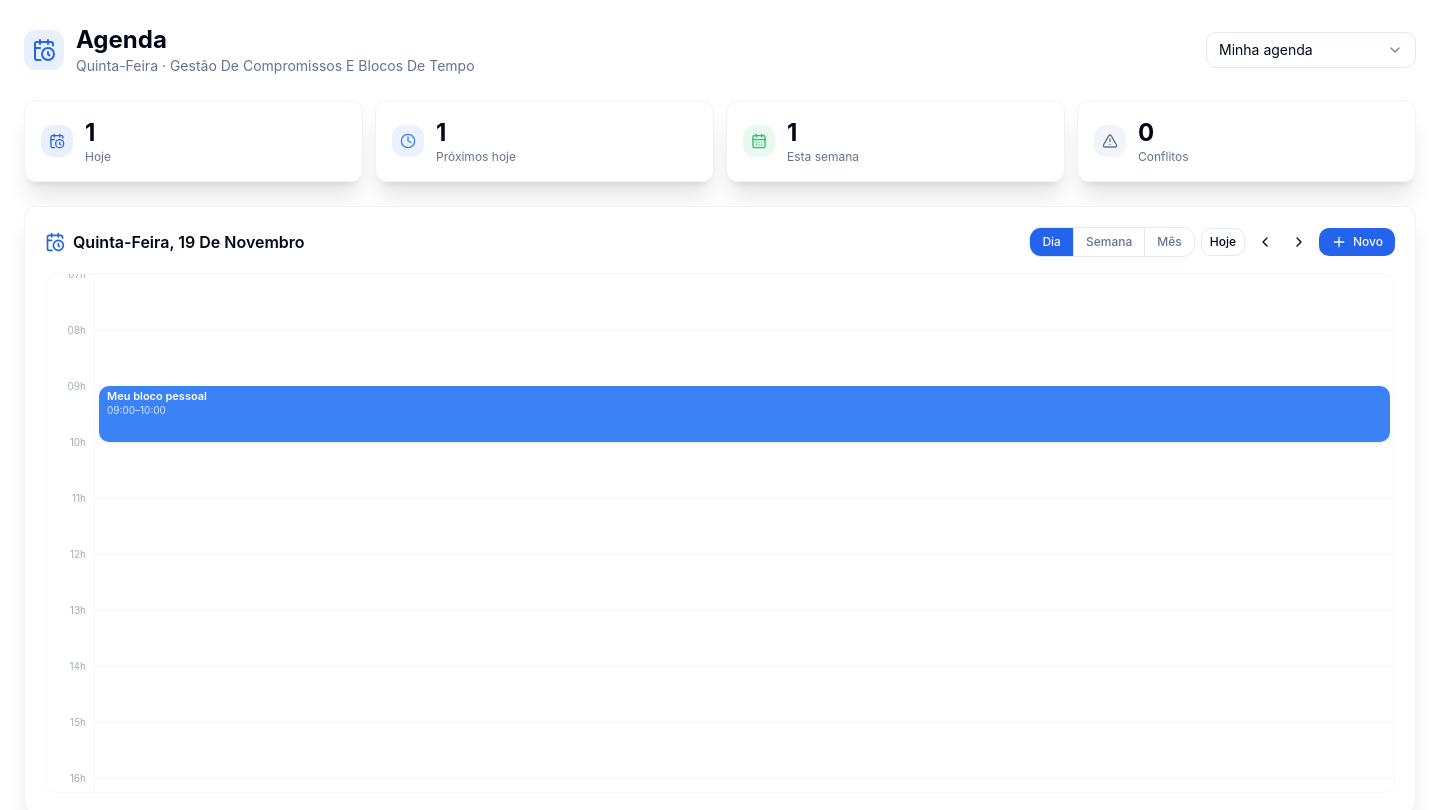
Scenario: AgendaPage — collaborator calendar (MGR-03, MGR-11) › shows unavailability blocks visually distinct from appointments (MGR-10)
Press the mouse on the dropdown named "Colaborador": (1311, 50) [1206, 32, 1416, 68]
Click the dropdown named "Colaborador": (1311, 50) [1206, 32, 1416, 68]
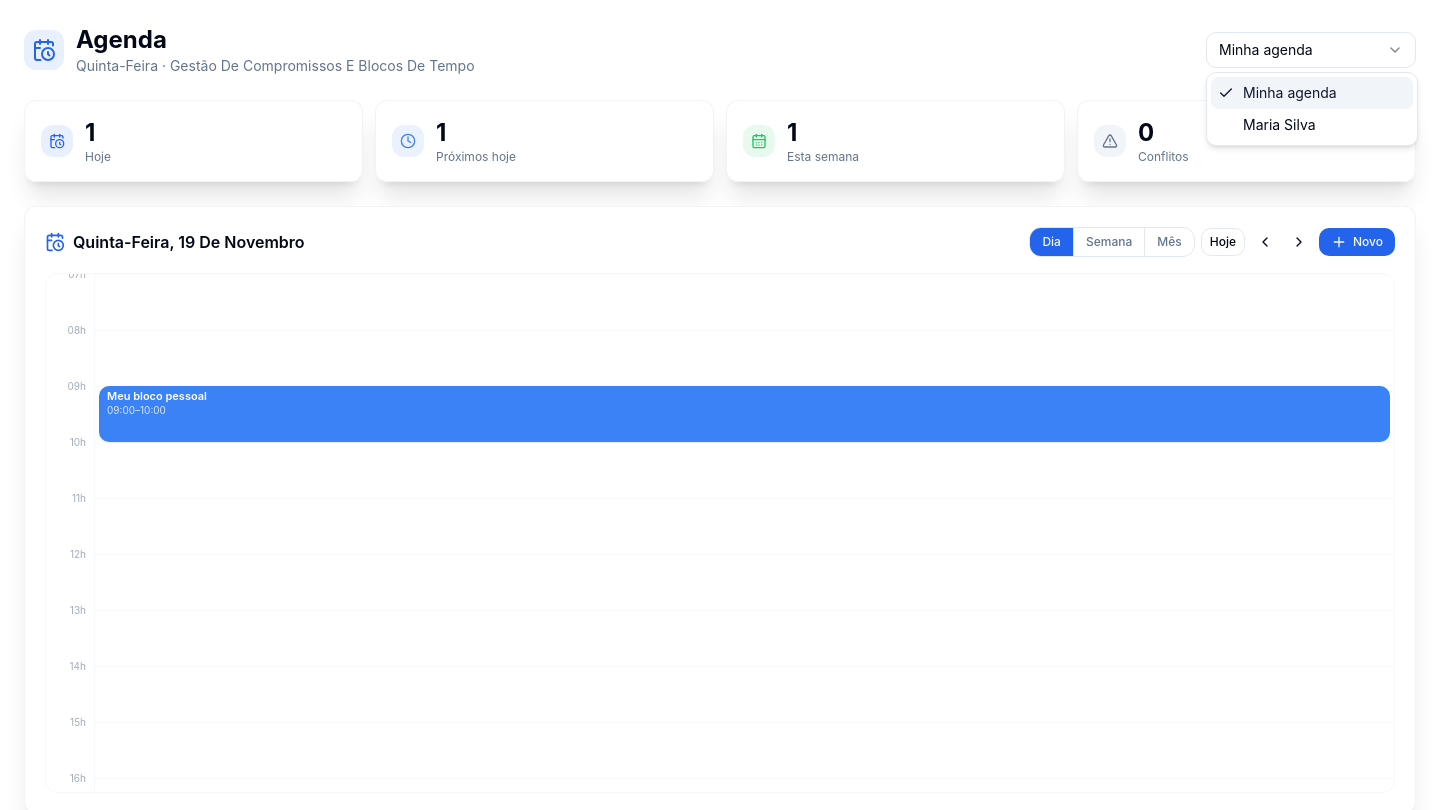
Click the option "Maria Silva": (1279, 124) [1243, 116, 1316, 133]
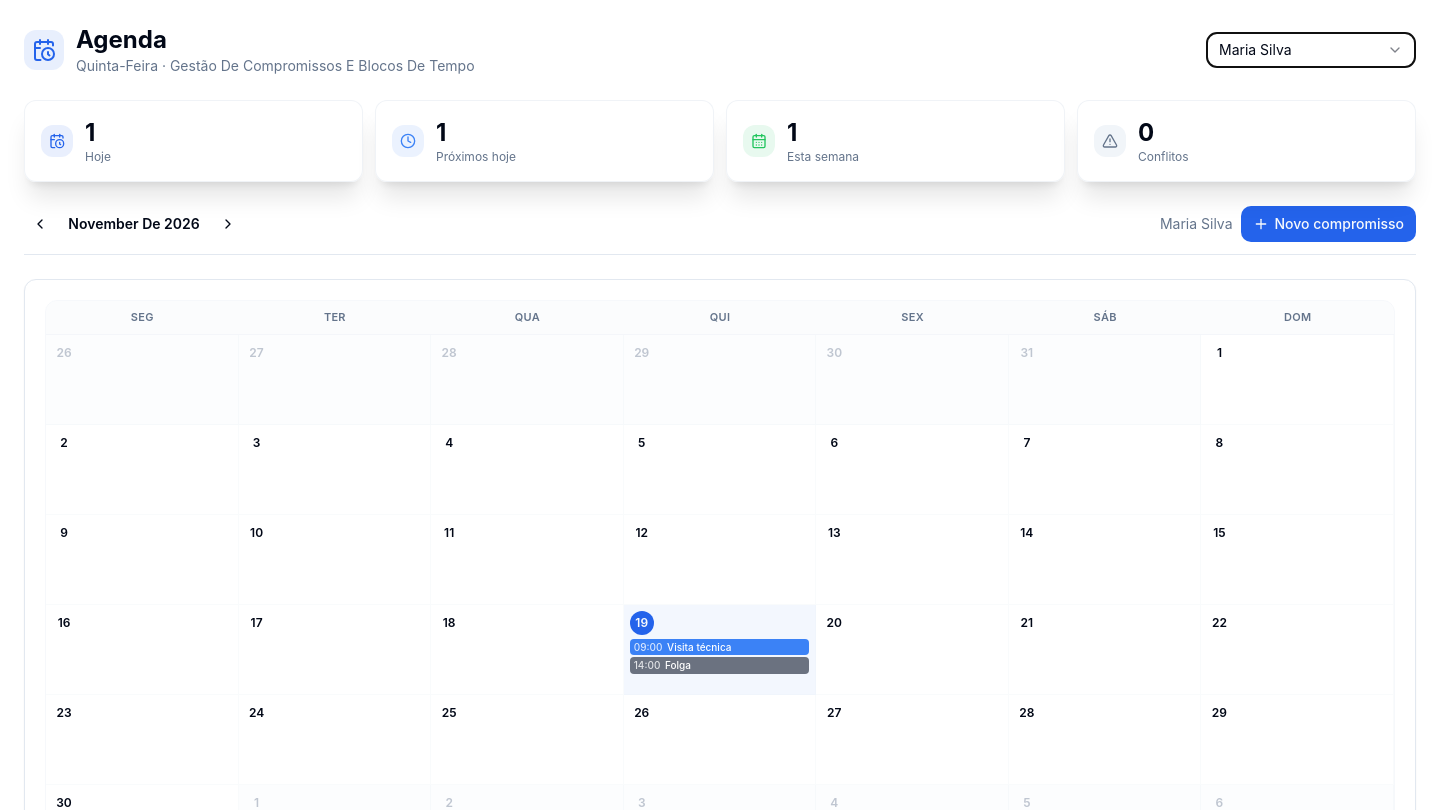
Result: the button "Novo compromisso" is shown at [1240, 206, 1416, 242]
Result: the text "Folga" is shown at [665, 659, 691, 671]
Result: the element with class "truncate" showing "09:00 Visita técnica" is shown at [630, 638, 809, 655]
